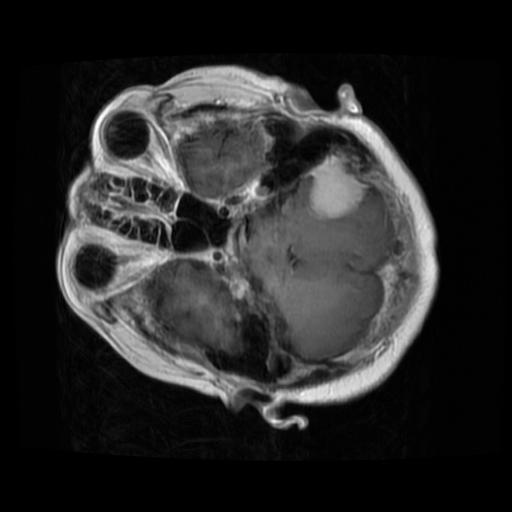meningioma: (304, 155, 368, 220)
